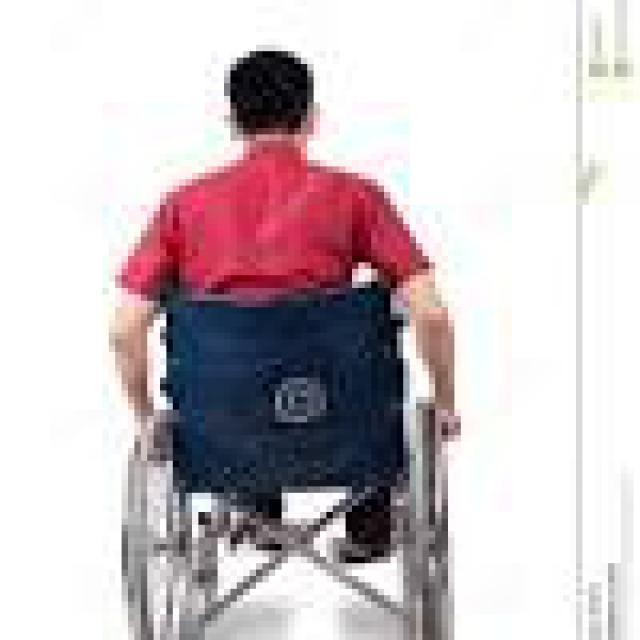wheelchairs: (96, 282, 474, 634)
